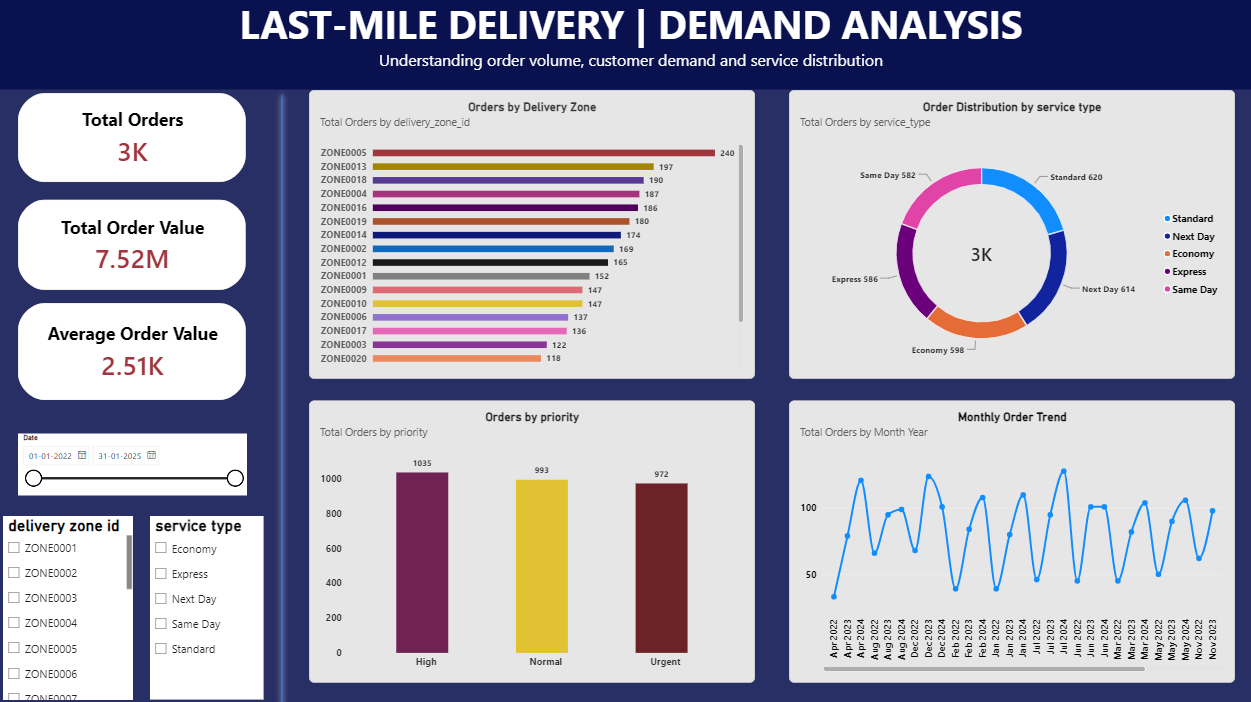

What the dashboard file says about the page in this screenshot:
{"tool":"powerbi","page":{"name":"Page 2","canvas":[1920,1080],"ordinal":1},"visuals":[{"type":"textbox","box":[10,0,280,280],"z":0},{"type":"textbox","box":[0,0,1920,140],"z":1000},{"type":"cardVisual","fields":{"Data":["Delivery Demand.Total Orders"]},"box":[32.5,145,345,135],"z":2000},{"type":"cardVisual","fields":{"Data":["Delivery Demand.Total Order Value"]},"box":[32.5,307.5,345,137.5],"z":3000},{"type":"cardVisual","fields":{"Data":["Delivery Demand.Average Order Value"]},"box":[32.5,462.5,345,147.5],"z":4000},{"type":"shape","box":[405,140,55,940],"z":5000},{"type":"clusteredBarChart","title":"Orders by Delivery Zone","fields":{"Category":["orders.delivery_zone_id"],"Y":["Delivery Demand.Total Orders"]},"box":[472.5,140,675,437.5],"z":6000},{"type":"donutChart","title":"Order Distribution by service type","fields":{"Category":["orders.service_type"],"Y":["Delivery Demand.Total Orders"]},"box":[1200,140,675,437.5],"z":7000},{"type":"clusteredColumnChart","title":"Orders by priority ","fields":{"Category":["orders.priority"],"Y":["Delivery Demand.Total Orders"]},"box":[472.5,610,675,427.5],"z":8000},{"type":"lineChart","title":"Monthly Order Trend","fields":{"Category":["date_table.Month Year"],"Y":["Delivery Demand.Total Orders"]},"box":[1200,610,675,427.5],"z":9000},{"type":"slicer","fields":{"Values":["date_table.Date"]},"box":[32.5,660,345,92.5],"z":10000},{"type":"slicer","fields":{"Values":["orders.delivery_zone_id"]},"box":[10,785,195,277.5],"z":11000},{"type":"slicer","fields":{"Values":["orders.service_type"]},"box":[232.5,785,172,278],"z":12000}]}

Visuals, with their boxes in screenshot pixels (x1, y1, x2, y2), scaled from the page's 1920x1080 canvas onto the 1251x702 screenshot:
textbox: left=7, top=0, right=189, bottom=182
textbox: left=0, top=0, right=1250, bottom=91
cardVisual - Delivery Demand.Total Orders: left=21, top=94, right=246, bottom=182
cardVisual - Delivery Demand.Total Order Value: left=21, top=200, right=246, bottom=289
cardVisual - Delivery Demand.Average Order Value: left=21, top=301, right=246, bottom=396
shape: left=264, top=91, right=300, bottom=701
"Orders by Delivery Zone" clusteredBarChart: left=308, top=91, right=748, bottom=375
"Order Distribution by service type" donutChart: left=782, top=91, right=1222, bottom=375
"Orders by priority " clusteredColumnChart: left=308, top=396, right=748, bottom=674
"Monthly Order Trend" lineChart: left=782, top=396, right=1222, bottom=674
slicer - date_table.Date: left=21, top=429, right=246, bottom=489
slicer - orders.delivery_zone_id: left=7, top=510, right=134, bottom=691
slicer - orders.service_type: left=151, top=510, right=264, bottom=691
